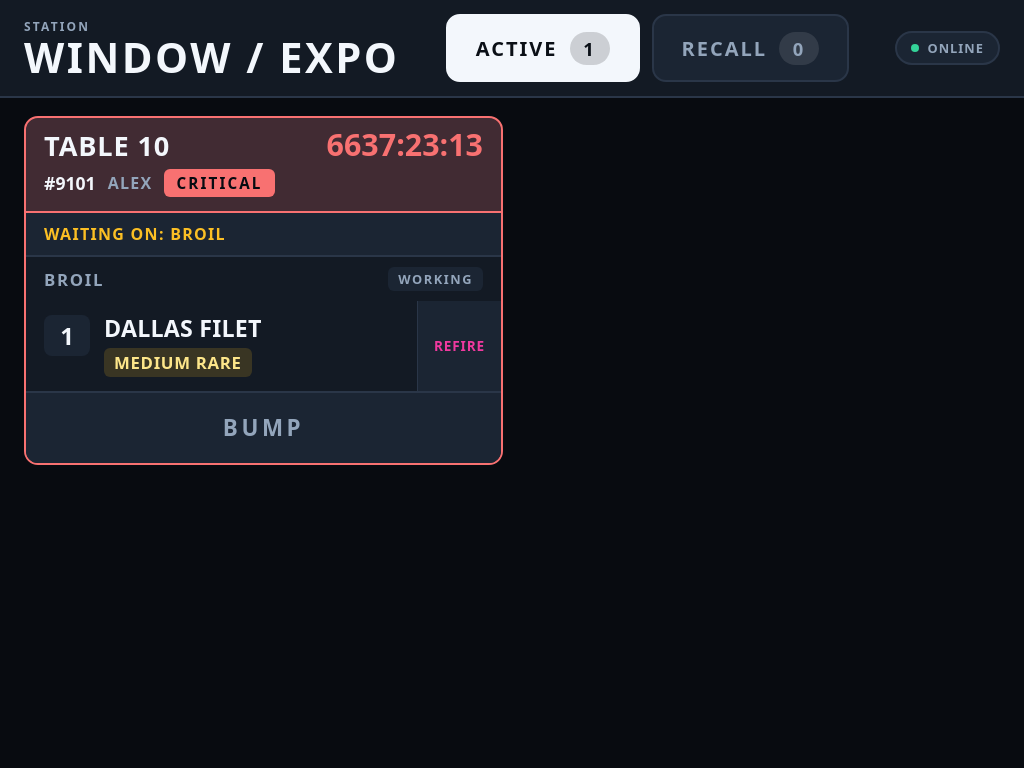
Test: WindowPage — REFIRE confirmation flow (Step 7) › clicking REFIRE opens a confirmation and sends no request yet
Click the button "REFIRE": (459, 346) [417,301,501,391]
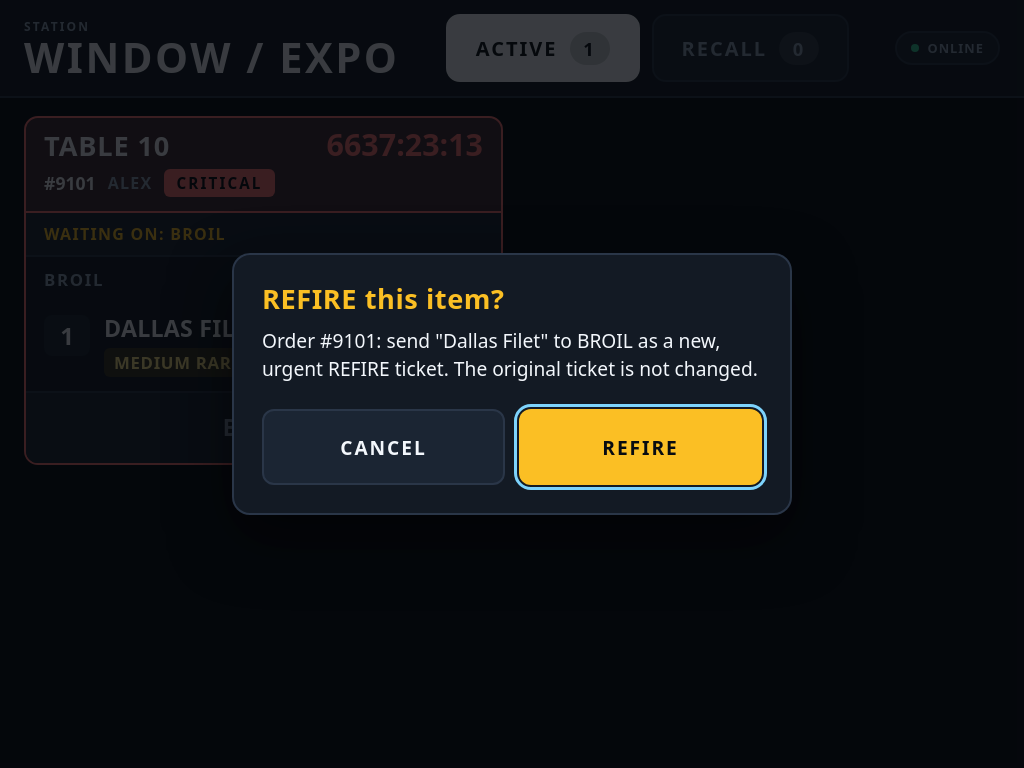
Expected: the text "Dallas Filet" is shown, [262,328,758,382]
